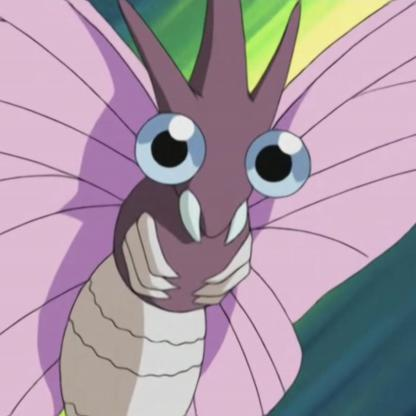Venomoth: (1, 1, 416, 416)
